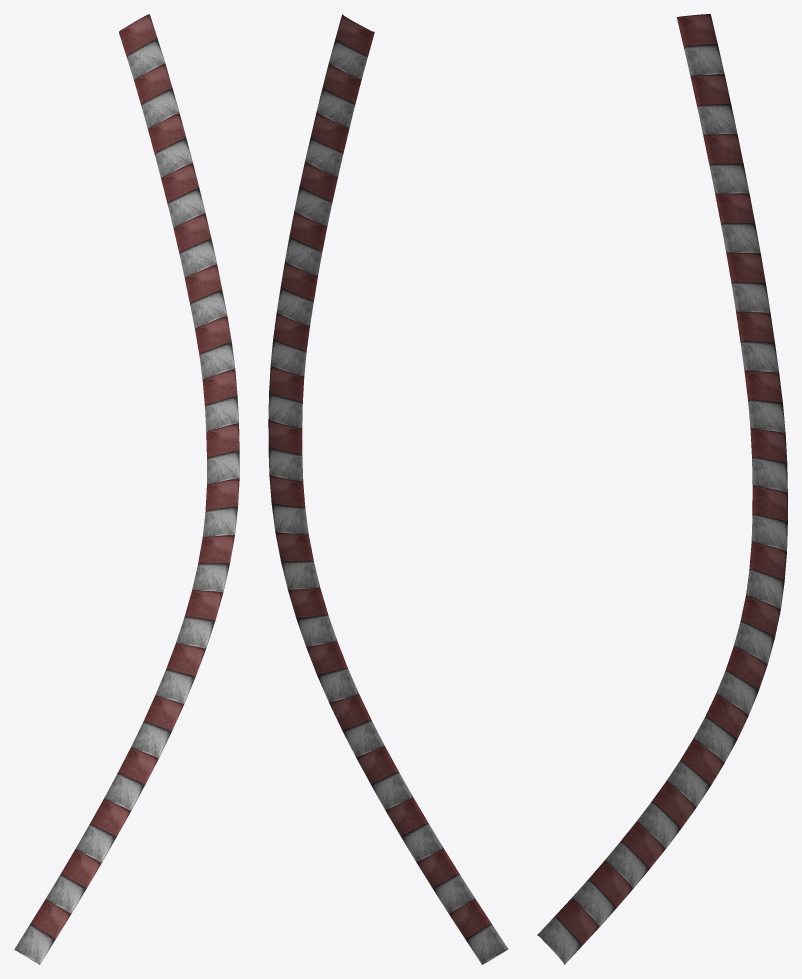
The model's file is _1KERB_03_01_Scene.245.obj.
3 renders of one model, left to right at view 1: azimuth 30°, elevation 25°; view 2: azimuth 150°, elevation 25°; view 3: azimuth 330°, elevation 25°, orthographic. The views are drawn at different scales.
Parts seen in each view (by area): view 1: _1KERB_03_01_Scene.245; view 2: _1KERB_03_01_Scene.245; view 3: _1KERB_03_01_Scene.245.
Part boxes in pixels (left/top/right/bottom): _1KERB_03_01_Scene.245: left=14, top=14, right=239, bottom=964; _1KERB_03_01_Scene.245: left=268, top=14, right=507, bottom=964; _1KERB_03_01_Scene.245: left=537, top=14, right=787, bottom=964.
Size of the model in its own units: 9.01 by 34.08 by 0.9728.
